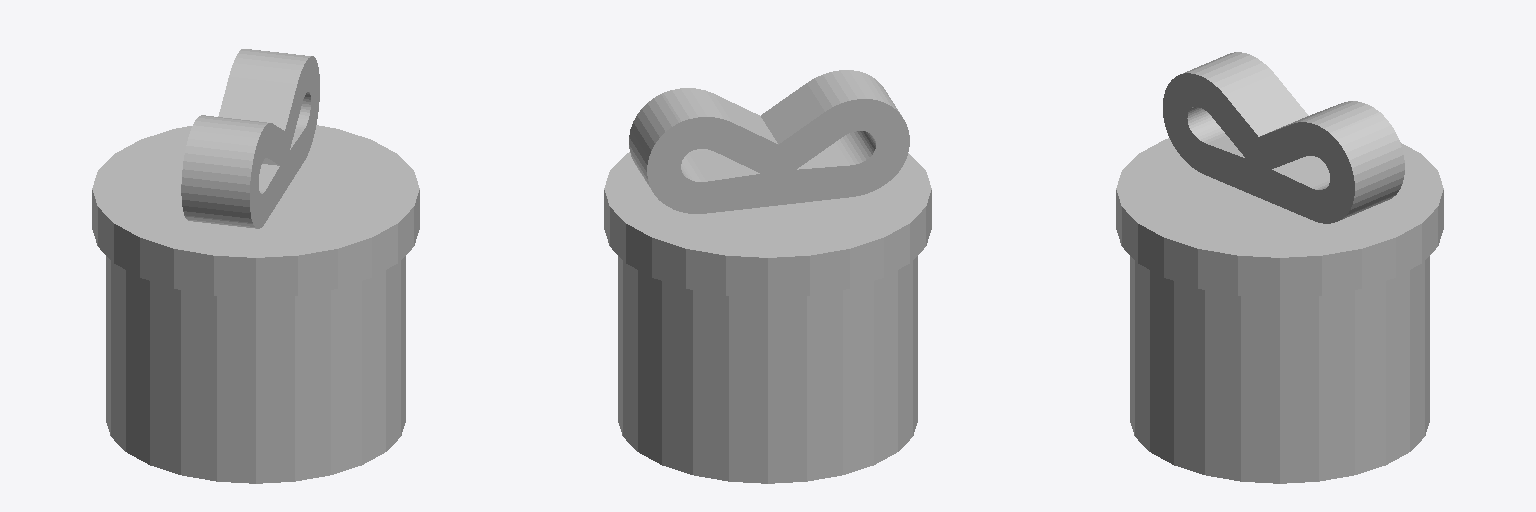
The model's file is presentRound.obj.
3 renders of one model, left to right at view 1: azimuth 30°, elevation 25°; view 2: azimuth 150°, elevation 25°; view 3: azimuth 270°, elevation 25°, orthographic.
Visible parts, largest first — view 1: presentRound, lid; view 2: lid, presentRound; view 3: lid, presentRound.
Part boxes in pixels (left/top/right/bottom): presentRound: left=106, top=256, right=405, bottom=483; lid: left=92, top=49, right=419, bottom=297; lid: left=604, top=70, right=931, bottom=297; presentRound: left=618, top=256, right=917, bottom=483; lid: left=1116, top=52, right=1443, bottom=297; presentRound: left=1130, top=256, right=1429, bottom=483.
Bounding box in the file's own units: 0.361 × 0.3997 × 0.361.